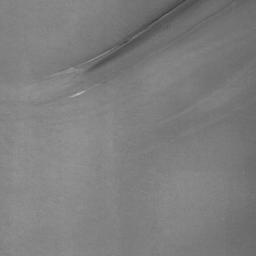Crease: (70, 0, 196, 72), (156, 1, 235, 49), (69, 77, 111, 98), (197, 90, 221, 105)
